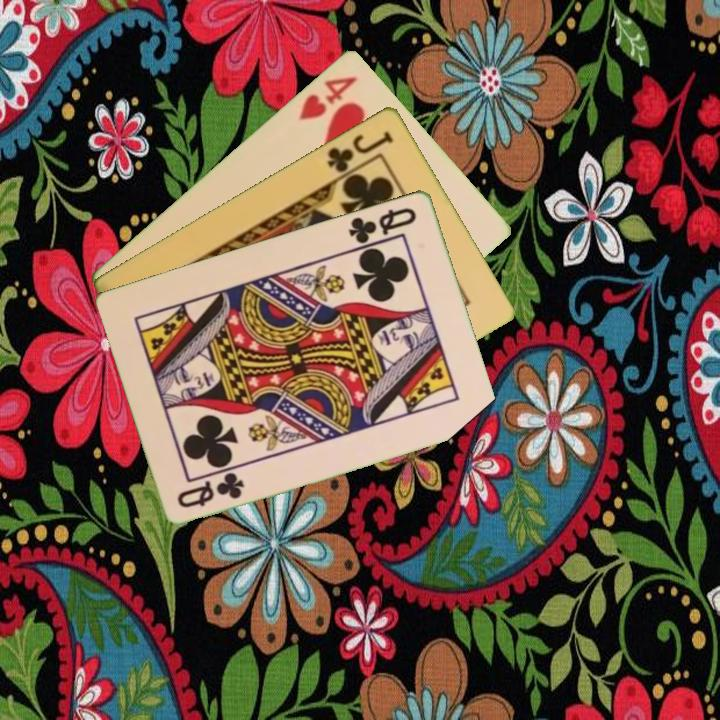4h: (295, 71, 361, 123)
Jc: (323, 126, 397, 176)
Qc: (345, 203, 420, 247), (174, 468, 248, 511)
